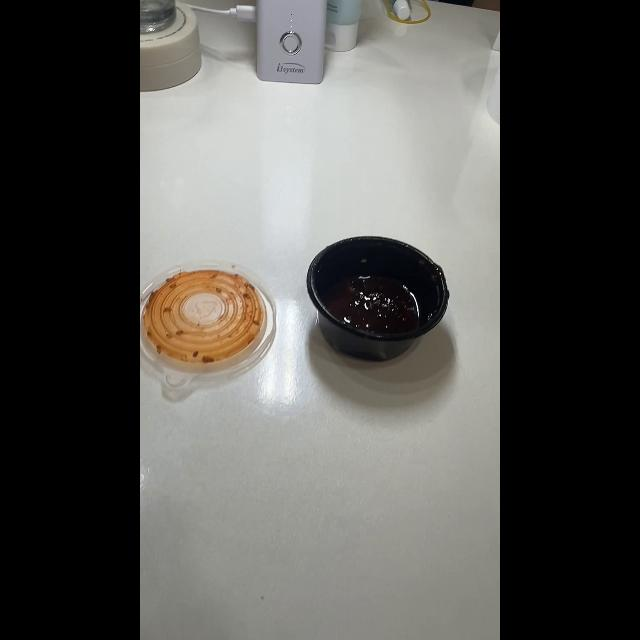dirty: (306, 236, 450, 364), (142, 270, 266, 364)
